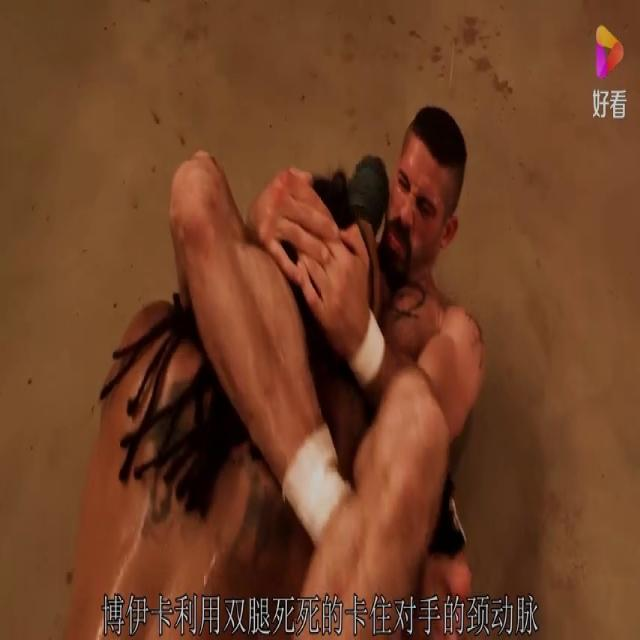fight: (65, 86, 507, 638)
